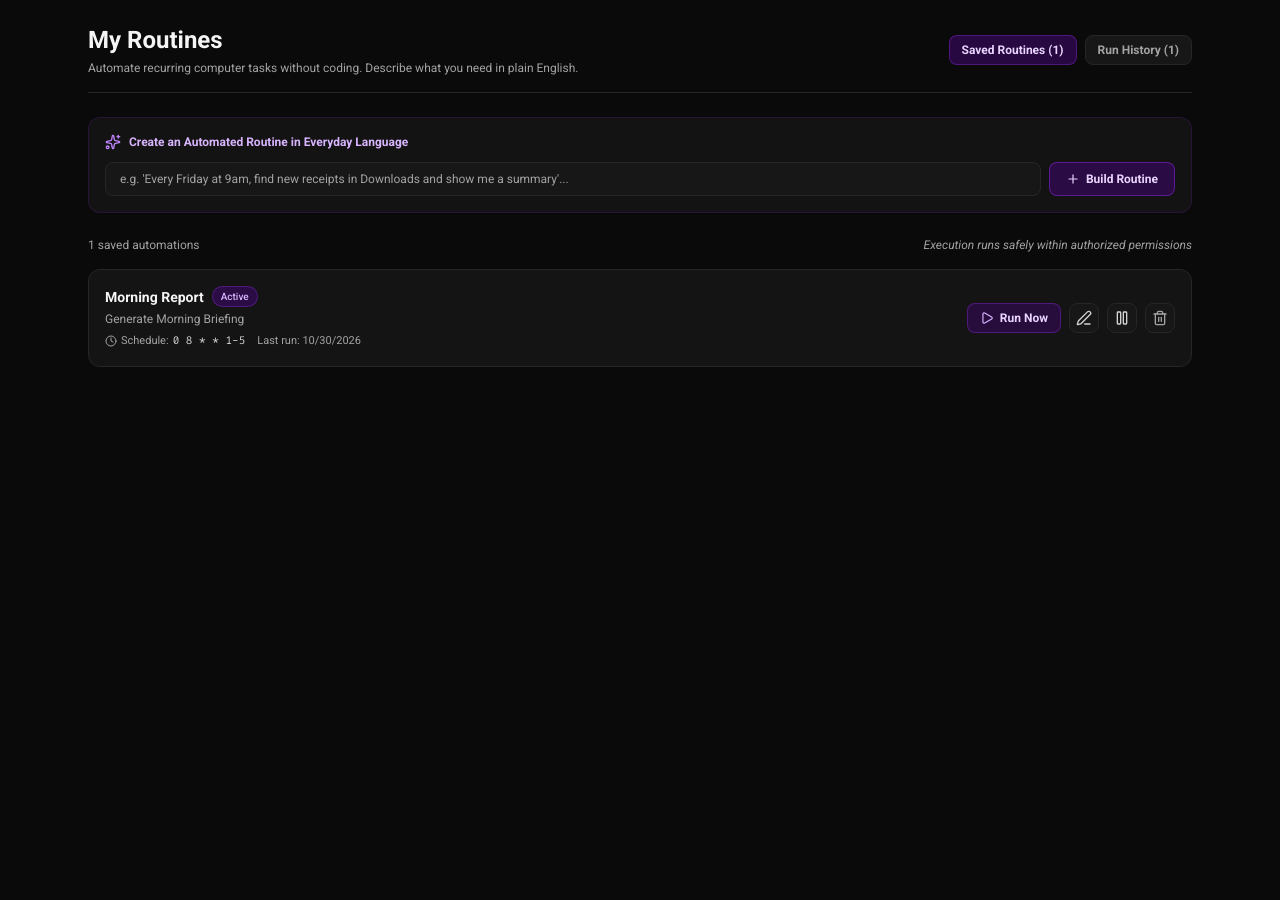
Scenario: Frontend Final Leap to >= 95% Coverage › edits a routine and navigates execution history in MyRoutinesView
Expected: the text "Morning Report" is shown, top-left (105, 286), bottom-right (204, 306)
Note: Run routine now
Click the button "Run Now".
click(1014, 318)  # box top-left (967, 303), bottom-right (1061, 333)
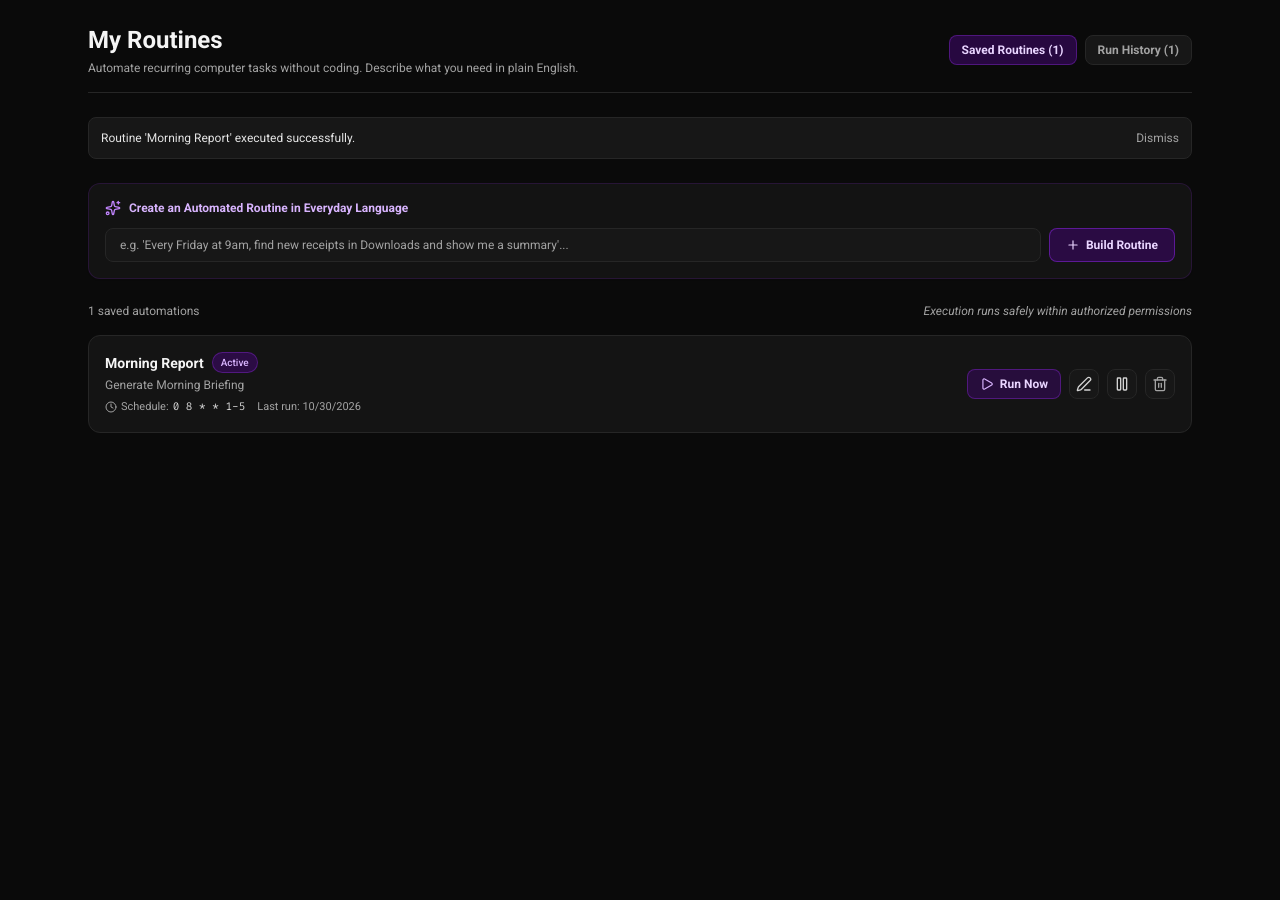
Note: Open Edit Routine Modal
Click the button titled "Edit routine".
click(1084, 384)  # box top-left (1069, 369), bottom-right (1099, 399)
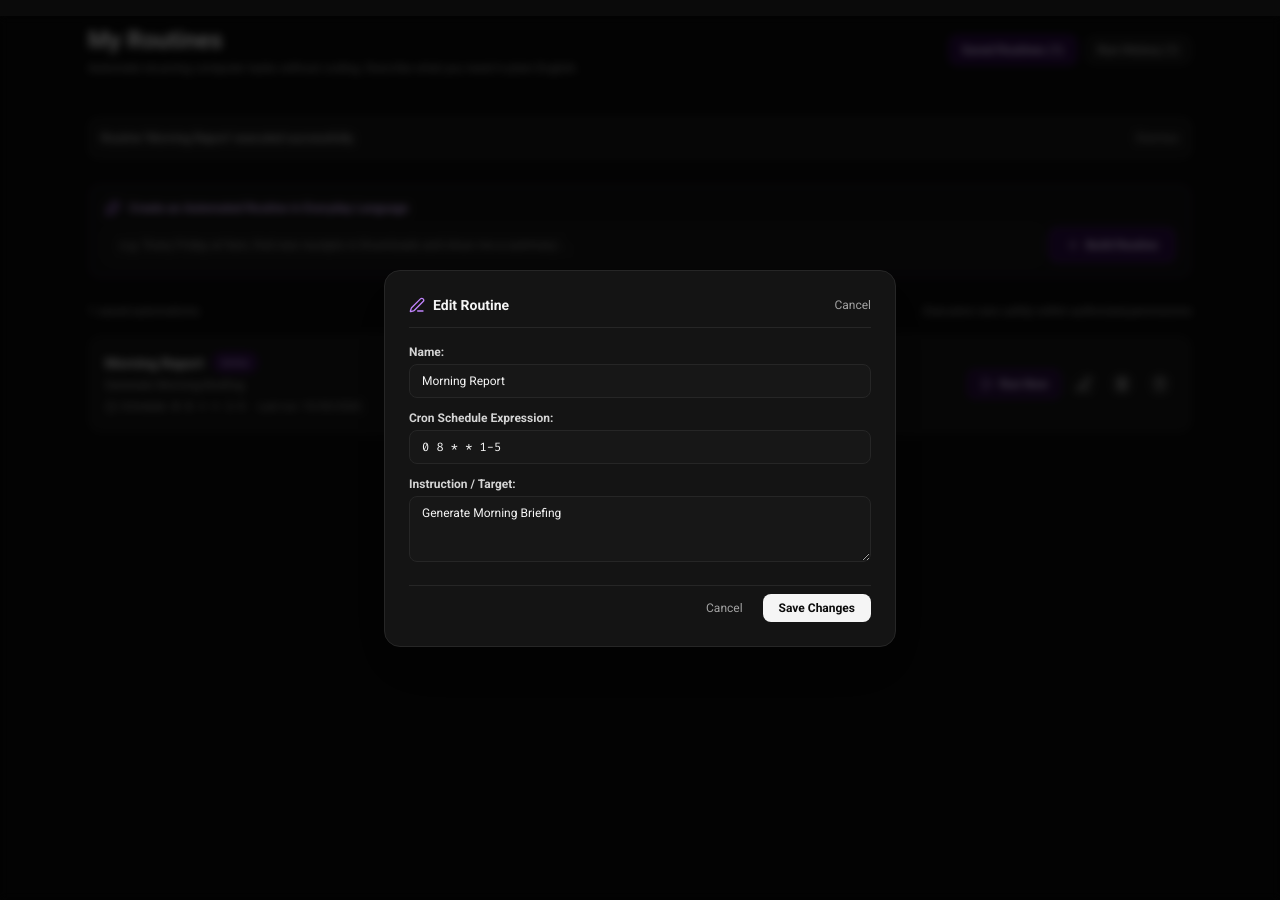
Expected: the heading "Edit Routine" is shown, top-left (409, 294), bottom-right (509, 314)
Note: Edit fields
Replace the text in the field showing "Morning Report" below "Name:" with "Morning Executive Report" at (640, 380), box top-left (409, 364), bottom-right (871, 398)
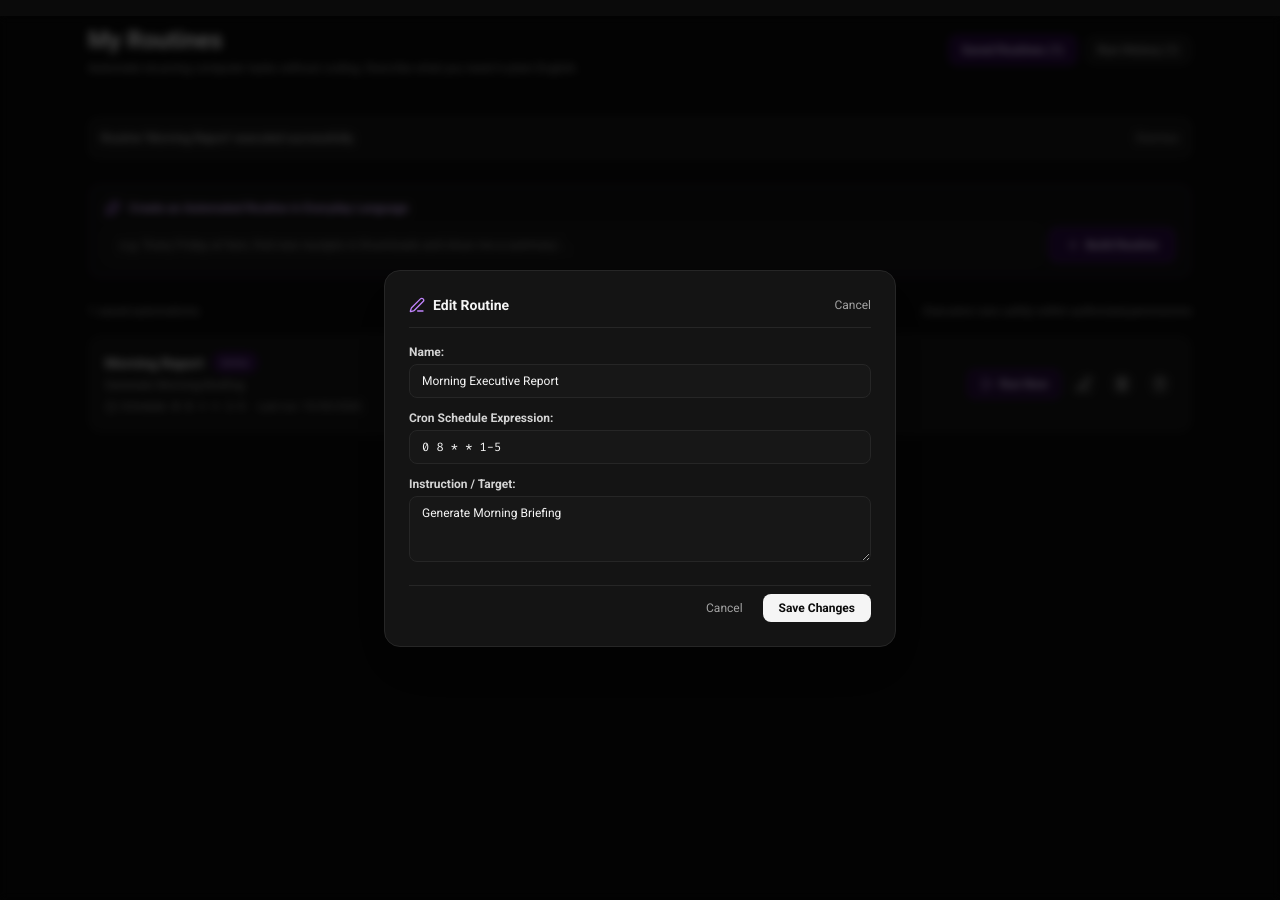
Replace the text in the field showing "0 8 * * 1-5" below "Cron Schedule Expression:" with "0 9 * * 1-5" at (640, 446), box top-left (409, 430), bottom-right (871, 464)
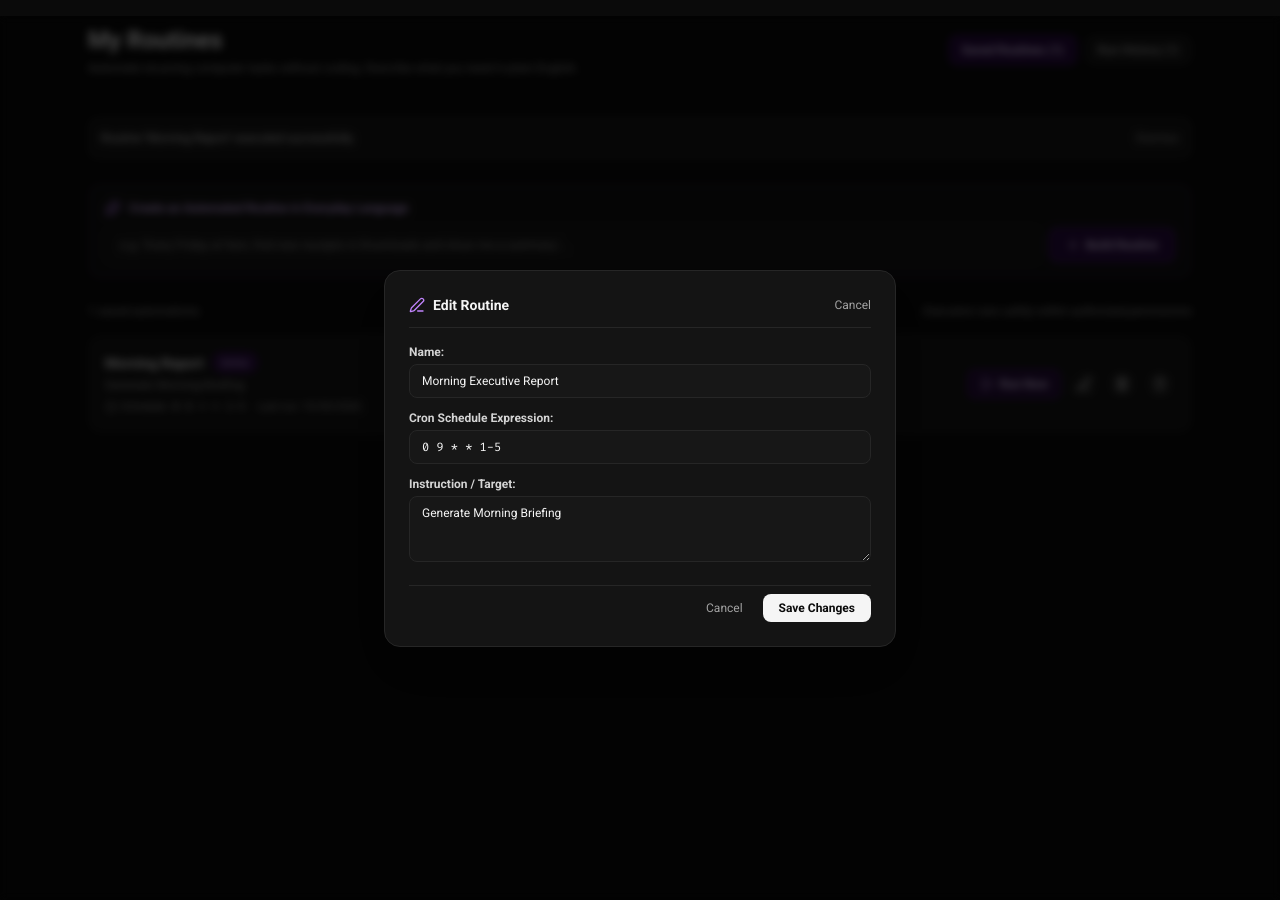
Note: Save changes
Click the button "Save Changes".
click(817, 608)  # box top-left (763, 594), bottom-right (871, 622)
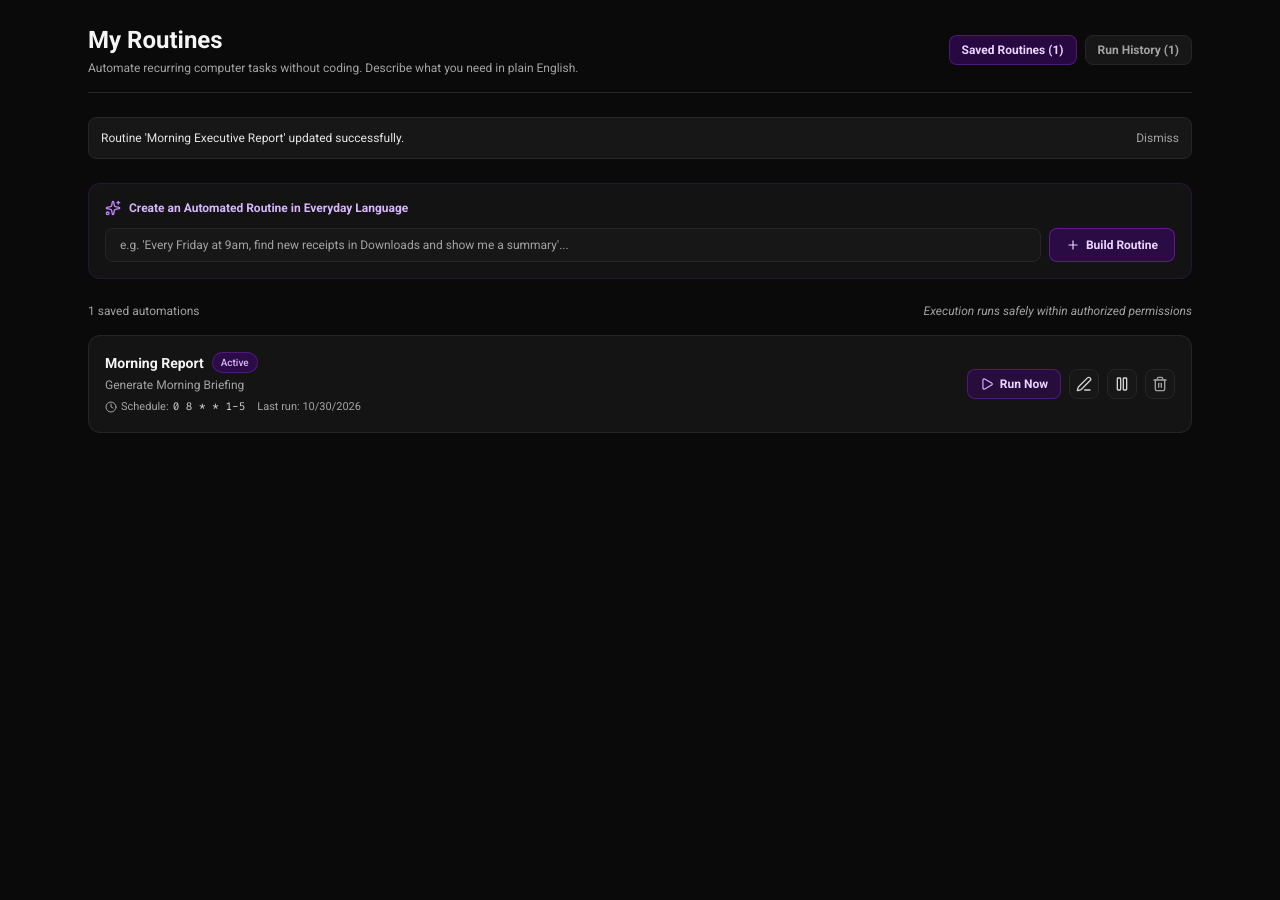
Note: Switch to Run History tab
Click the button "Run History (1)".
click(1138, 50)  # box top-left (1085, 35), bottom-right (1192, 65)
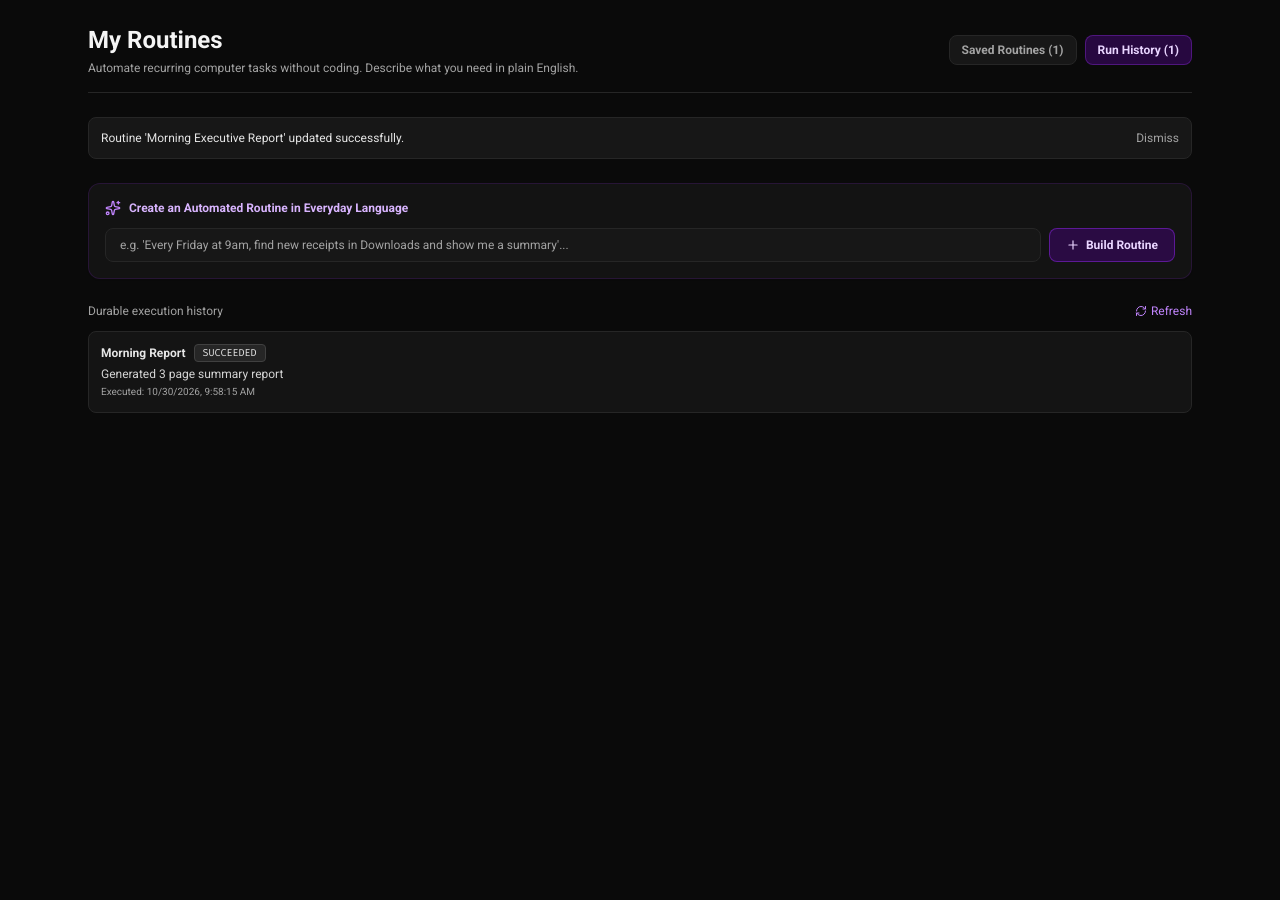
Expected: the text "Generated 3 page summary report" is shown, top-left (101, 366), bottom-right (283, 382)
